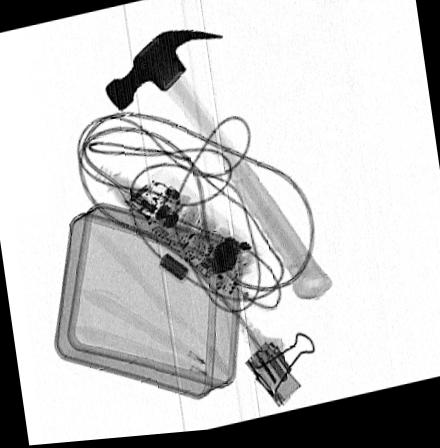Hammer: (101, 32, 332, 307)
